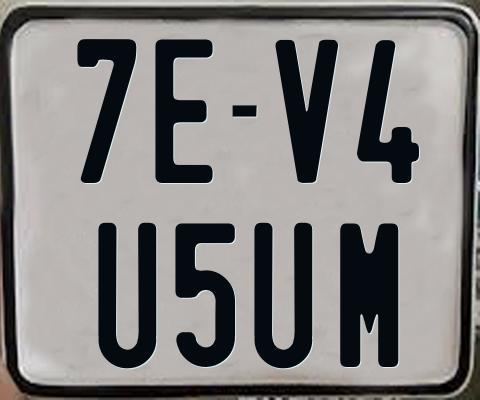4: (357, 37, 420, 181)
5: (173, 222, 233, 368)
7: (75, 37, 137, 182)
E: (155, 37, 218, 185)
M: (339, 221, 397, 370)
U: (251, 220, 313, 369), (97, 221, 157, 370)
V: (275, 40, 343, 184)
